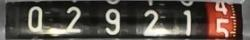digits: (180, 5, 203, 38), (214, 1, 231, 38), (142, 9, 164, 36), (104, 8, 120, 34), (66, 6, 81, 32), (27, 6, 42, 30)
